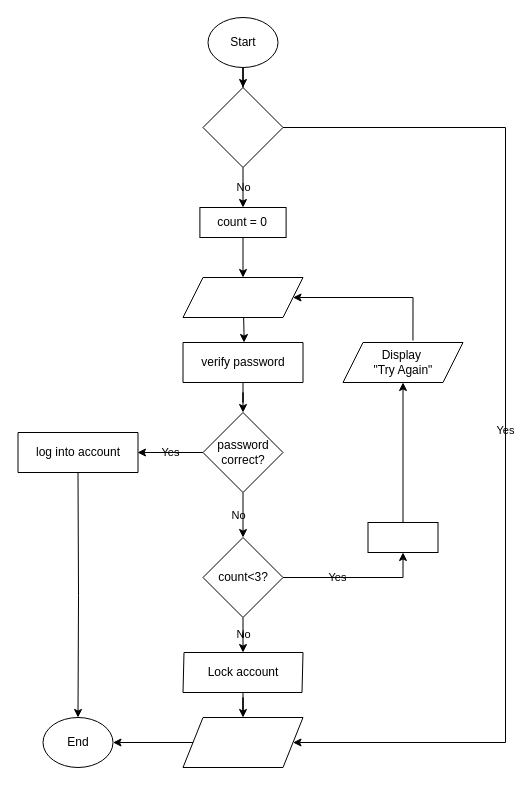
Some shapes in this 531 by 785 pixel diagram are drawn without their labels. Each missing label, with the centre of its shape:
account locked?: point (242, 127)
count ++: point (402, 537)
Display "Account locked": point (242, 742)
get password: point (242, 297)
